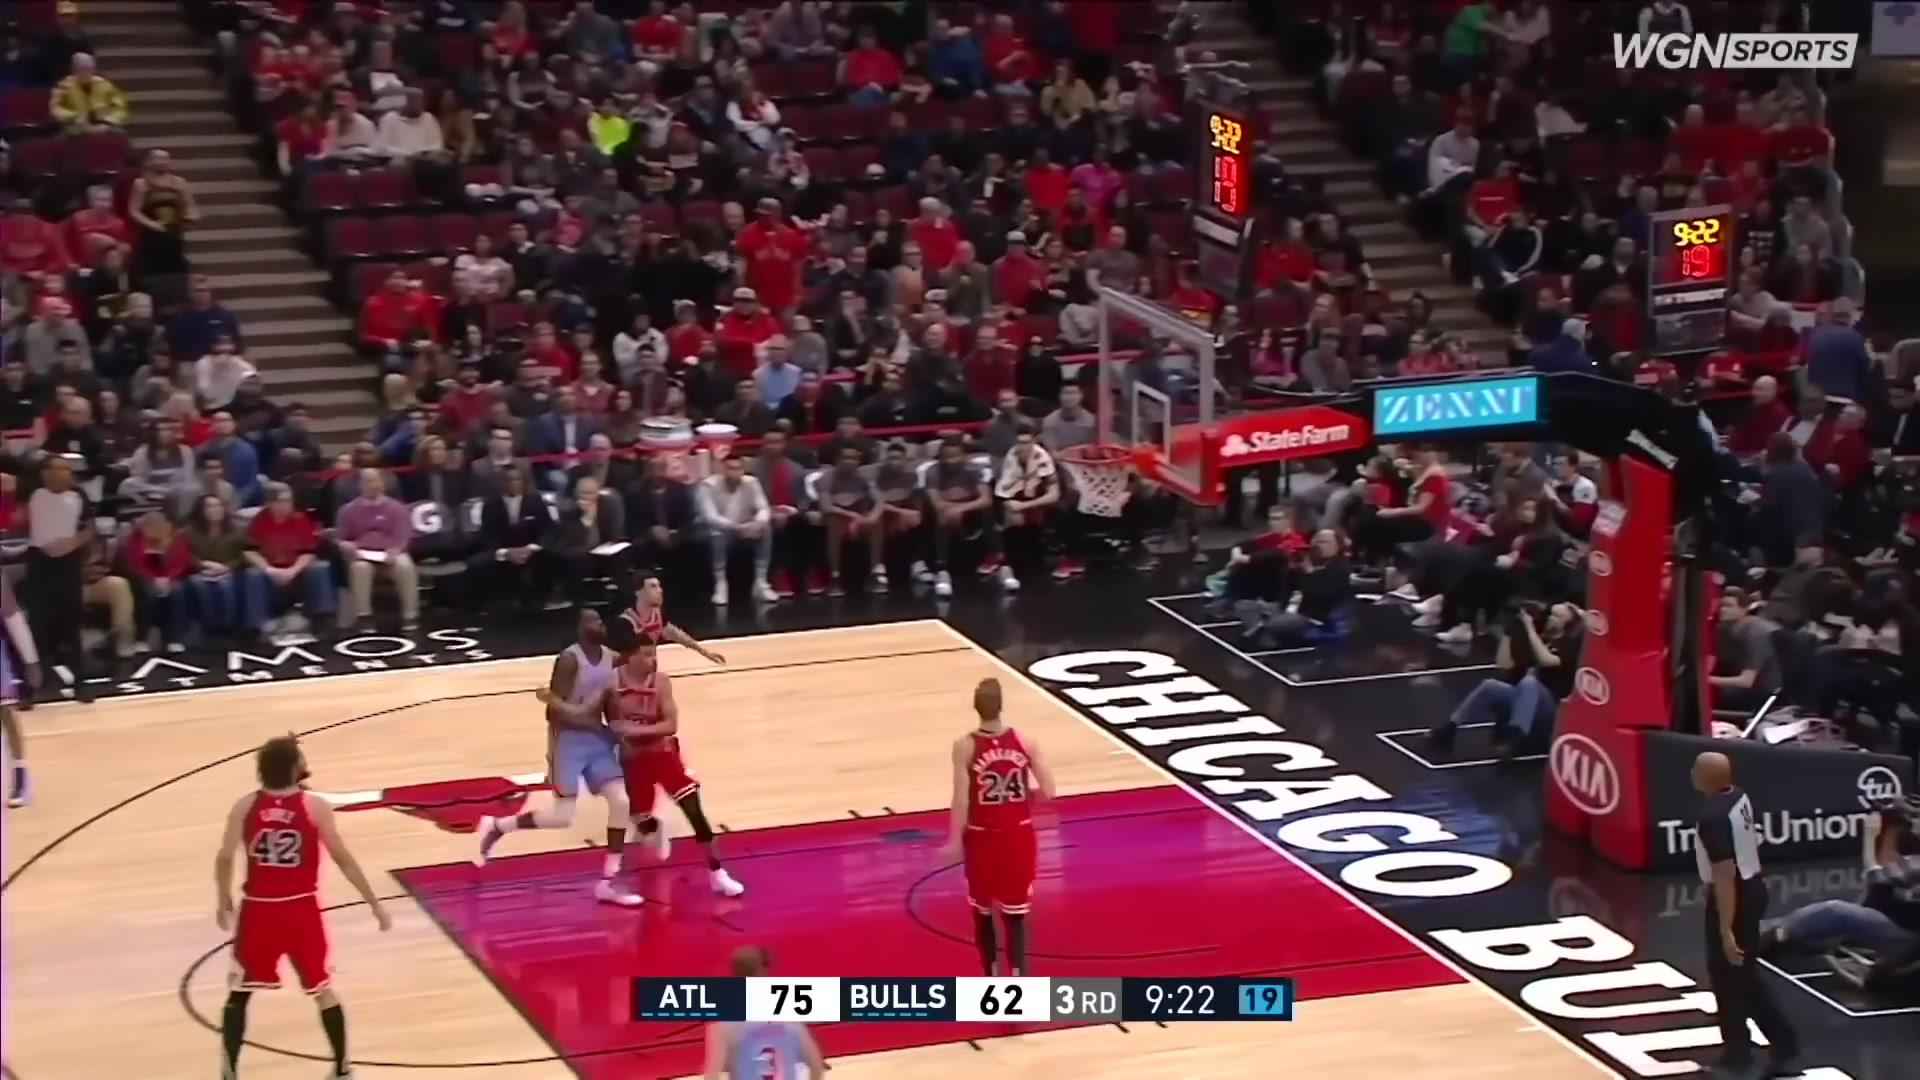foul: (492, 592, 748, 906)
